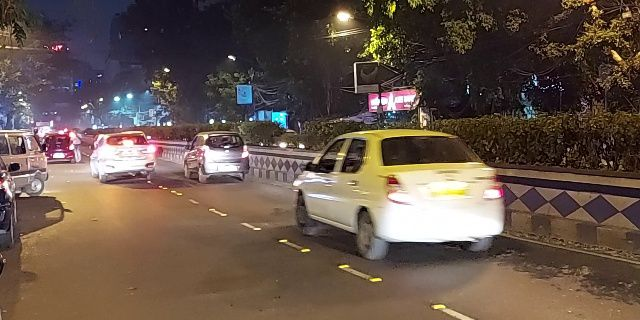Car: (302, 132, 514, 275), (188, 130, 255, 185), (90, 132, 157, 180)
